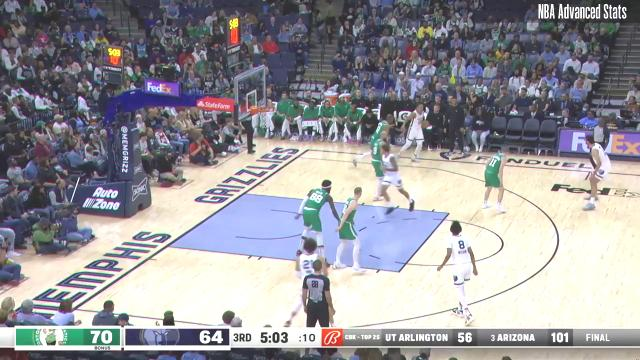3_dx: (294, 154, 304, 162)
3_sx: (70, 304, 82, 312)
b_dx: (304, 146, 314, 154)
free_adx: (442, 208, 453, 218)
free_asx: (394, 268, 404, 276)
free_bdx: (238, 188, 250, 198)
free_bsx: (162, 244, 172, 252)
mid_dx: (584, 168, 596, 176)
team: (286, 238, 334, 328), (438, 219, 478, 324), (380, 144, 416, 214), (584, 136, 610, 210), (396, 103, 428, 160)
team1: (296, 180, 338, 268), (336, 186, 368, 274), (352, 114, 396, 166), (483, 146, 507, 212), (369, 132, 391, 202)
timer: (255, 328, 292, 346)
